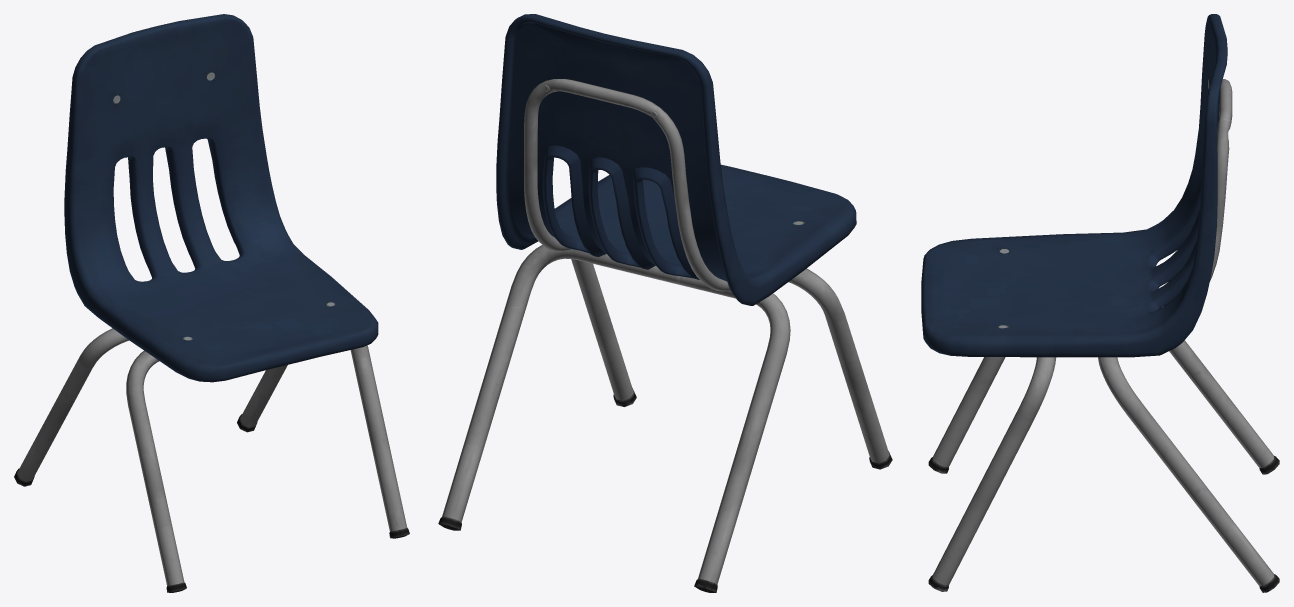
The model's file is ph-SchoolChair_01.glb.
The picture shows the model from 3 angles, left to right: view 1: azimuth 30°, elevation 25°; view 2: azimuth 150°, elevation 25°; view 3: azimuth 270°, elevation 25°; orthographic projection. The views are drawn at different scales.
Parts seen in each view (by area): view 1: SchoolChair_01; view 2: SchoolChair_01; view 3: SchoolChair_01.
Part boxes in pixels (<box>): SchoolChair_01: <box>14,14,409,592</box>; SchoolChair_01: <box>438,14,892,592</box>; SchoolChair_01: <box>921,14,1279,592</box>.
Bounding box in the file's own units: 0.5625 × 1 × 0.6712.
Materials: 1 (1 with a texture image).
